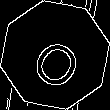O_NE: (23, 22, 87, 88)
